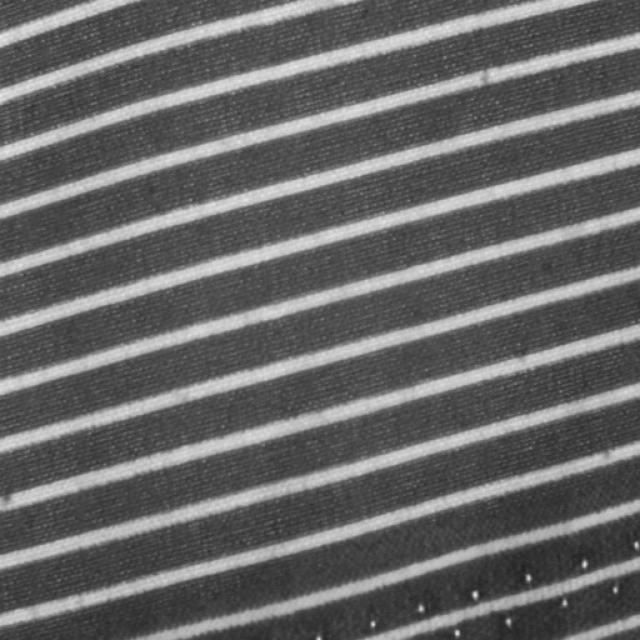Hole-Defect: (276, 519, 639, 639)
